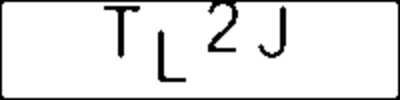2: (203, 1, 244, 55)
J: (256, 3, 288, 60)
L: (154, 25, 190, 85)
T: (102, 1, 145, 61)
